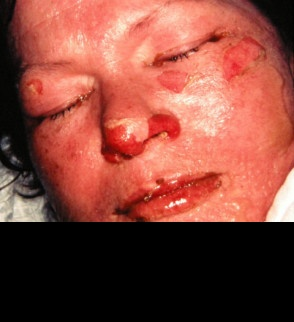SJS-TEN: (4, 0, 294, 224)
